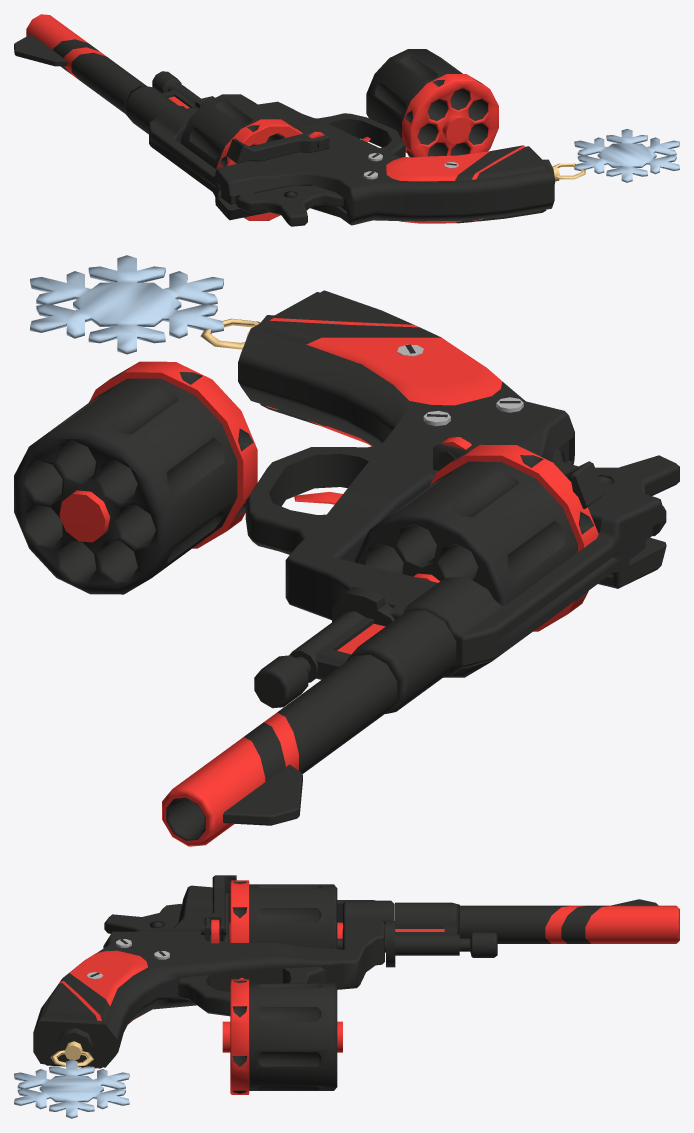
File: cherino.glb
3 renders of one model, top to bottom at view 1: azimuth 30°, elevation 25°; view 2: azimuth 150°, elevation 25°; view 3: azimuth 270°, elevation 25°, orthographic. The views are drawn at different scales.
Visible parts, largest first — view 1: Cherino_Original_Weapon; view 2: Cherino_Original_Weapon; view 3: Cherino_Original_Weapon.
Boxes of the visible parts, <box> form: Cherino_Original_Weapon: <box>14,14,679,226</box>; Cherino_Original_Weapon: <box>14,255,679,846</box>; Cherino_Original_Weapon: <box>14,875,679,1118</box>.
Bounding box in the file's own units: 0.2029 × 0.0458 × 0.2636.
Materials: 1 (1 with a texture image).
